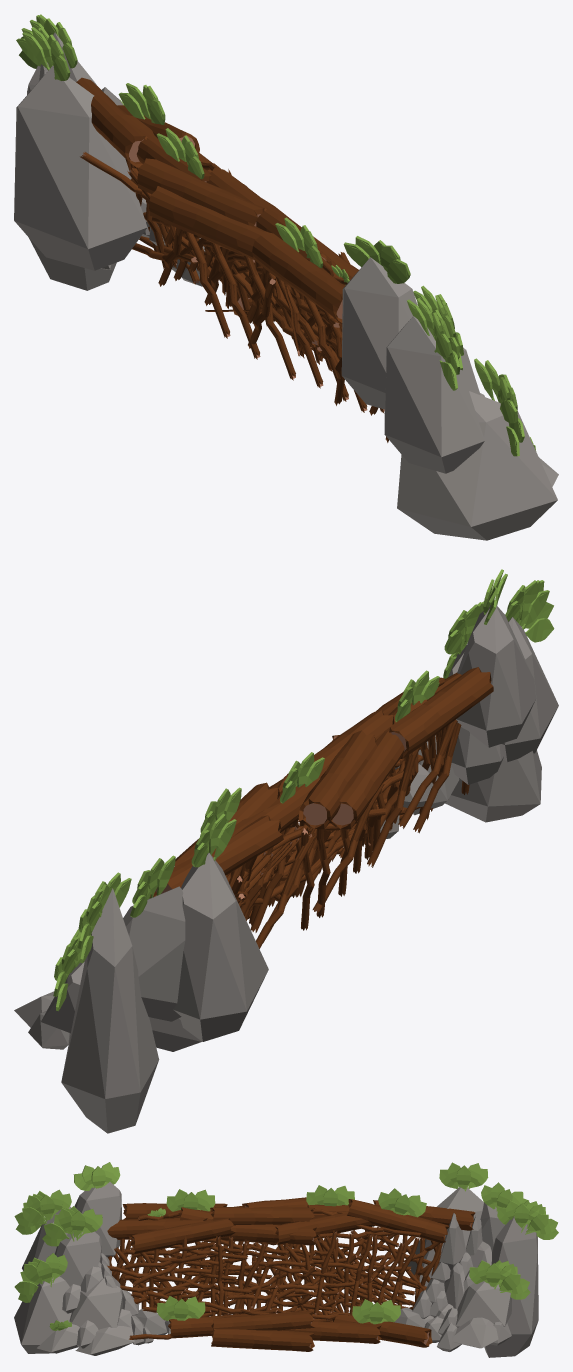
Rendered from Dam lvl 3.fbx.
The picture shows the model from 3 angles, top to bottom: view 1: azimuth 30°, elevation 25°; view 2: azimuth 150°, elevation 25°; view 3: azimuth 270°, elevation 25°; orthographic projection. The views are drawn at different scales.
Visible parts, largest first — view 1: Cube.009; view 2: Cube.009; view 3: Cube.009.
Part boxes in pixels (box(x1,y1,x2,y2)): Cube.009: box(14, 14, 558, 540); Cube.009: box(14, 569, 558, 1133); Cube.009: box(14, 1162, 558, 1357).
Size of the model in its own units: 1521 by 1999 by 5552.
